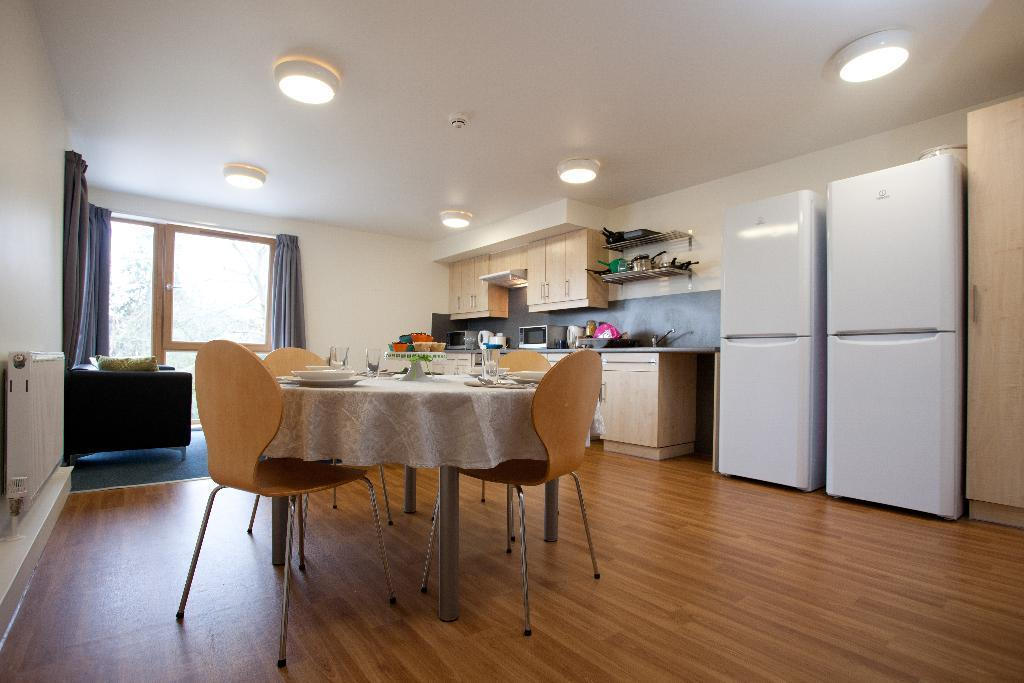door: (963, 97, 1021, 494)
handle: (968, 284, 982, 328)
